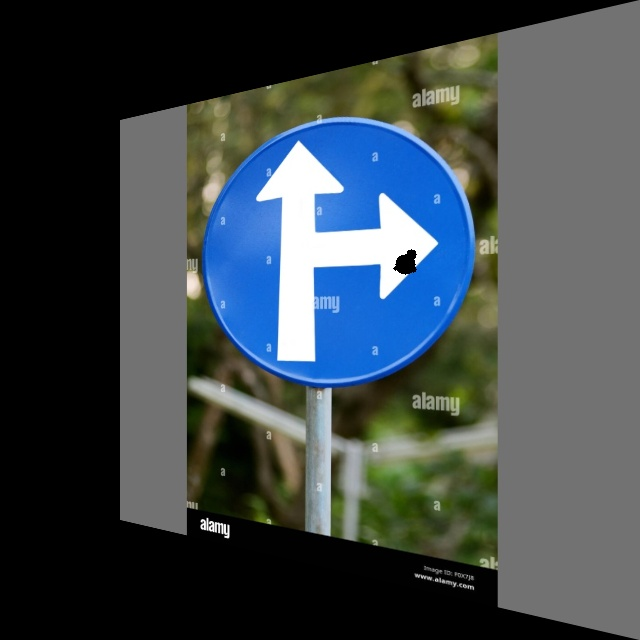Compulsory_Ahead_or_Turn_Right: (203, 89, 465, 392)
